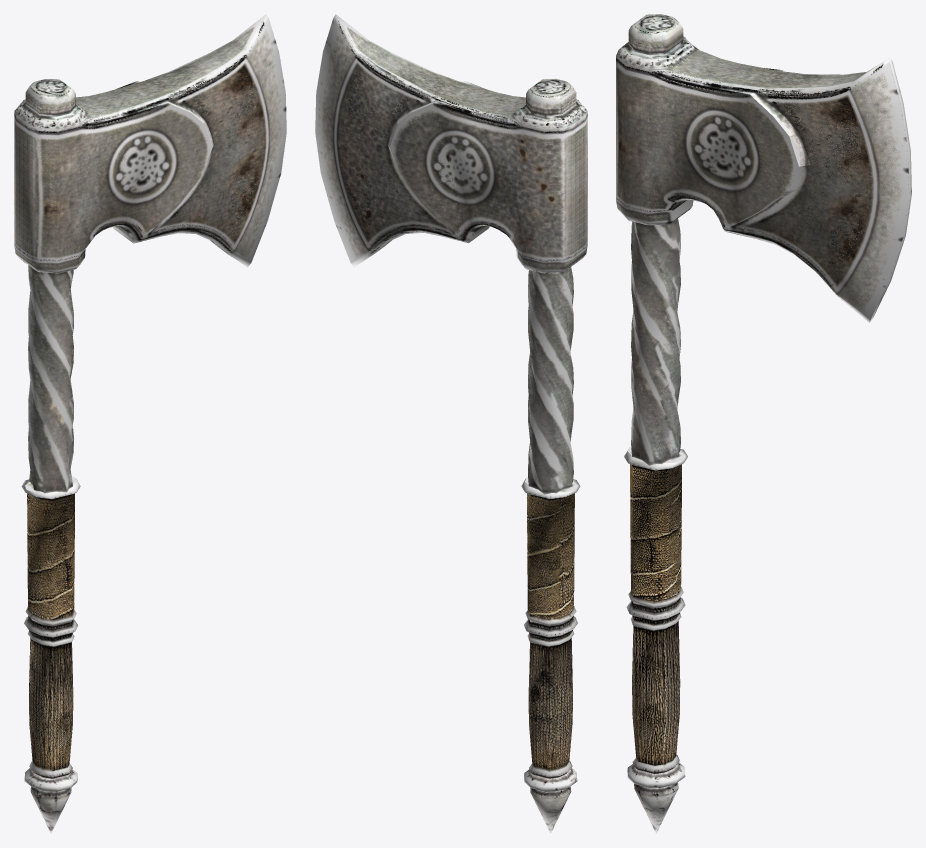
The model's file is w_waraxe_t1.glb.
3 renders of one model, left to right at view 1: azimuth 30°, elevation 25°; view 2: azimuth 150°, elevation 25°; view 3: azimuth 330°, elevation 25°, orthographic. The views are drawn at different scales.
Visible parts, largest first — view 1: WarAxe:0; view 2: WarAxe:0; view 3: WarAxe:0.
Boxes of the visible parts, x1=… form: WarAxe:0: x1=14, y1=14, x2=286, y2=833; WarAxe:0: x1=315, y1=14, x2=587, y2=833; WarAxe:0: x1=616, y1=14, x2=911, y2=833.
Bounding box in the file's own units: 17.27 × 48.23 × 4.05.
Materials: 1 (1 with a texture image).
